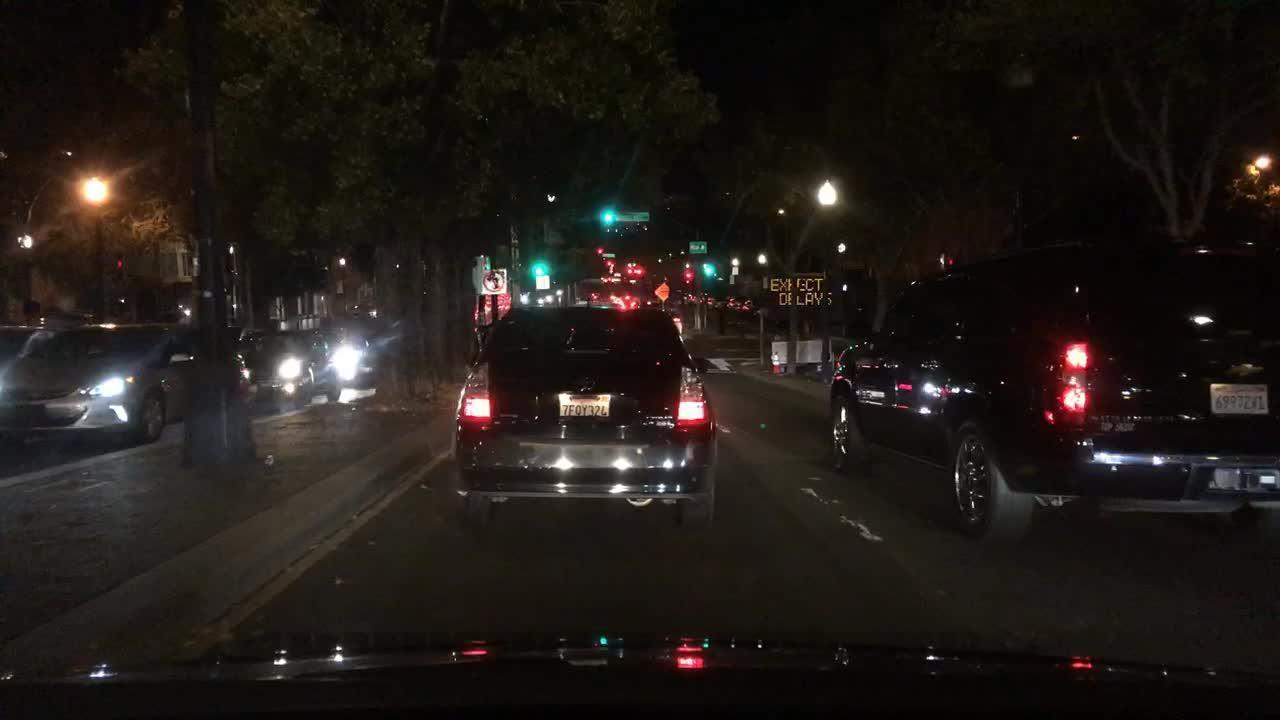Toyota: (572, 373, 600, 392)
chevrolet: (1220, 359, 1267, 383)
